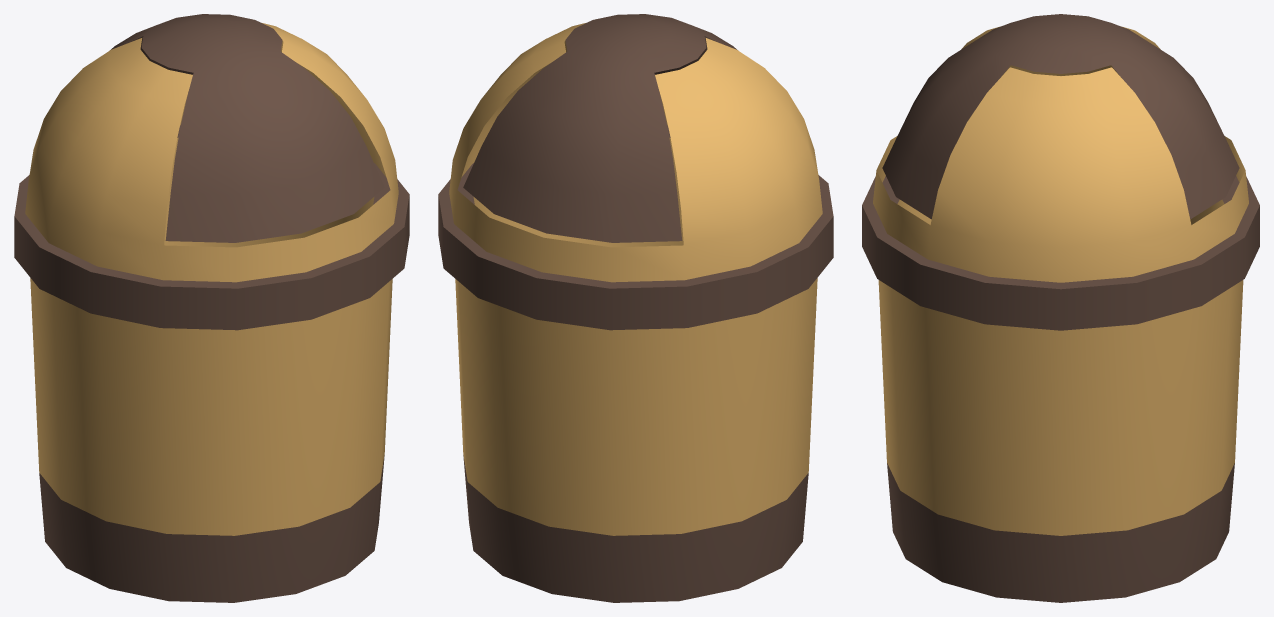
Rendered from TrashCan.fbx.
3 renders of one model, left to right at view 1: azimuth 30°, elevation 25°; view 2: azimuth 150°, elevation 25°; view 3: azimuth 270°, elevation 25°, orthographic.
Visible parts, largest first — view 1: TrashCan; view 2: TrashCan; view 3: TrashCan.
Boxes of the visible parts, left/top/right/bottom form: TrashCan: left=14, top=14, right=409, bottom=602; TrashCan: left=438, top=14, right=833, bottom=602; TrashCan: left=862, top=14, right=1259, bottom=602.
Bounding box in the file's own units: 95.09 × 132 × 95.09.
